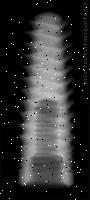Implant Direct: (18, 10, 75, 187)
